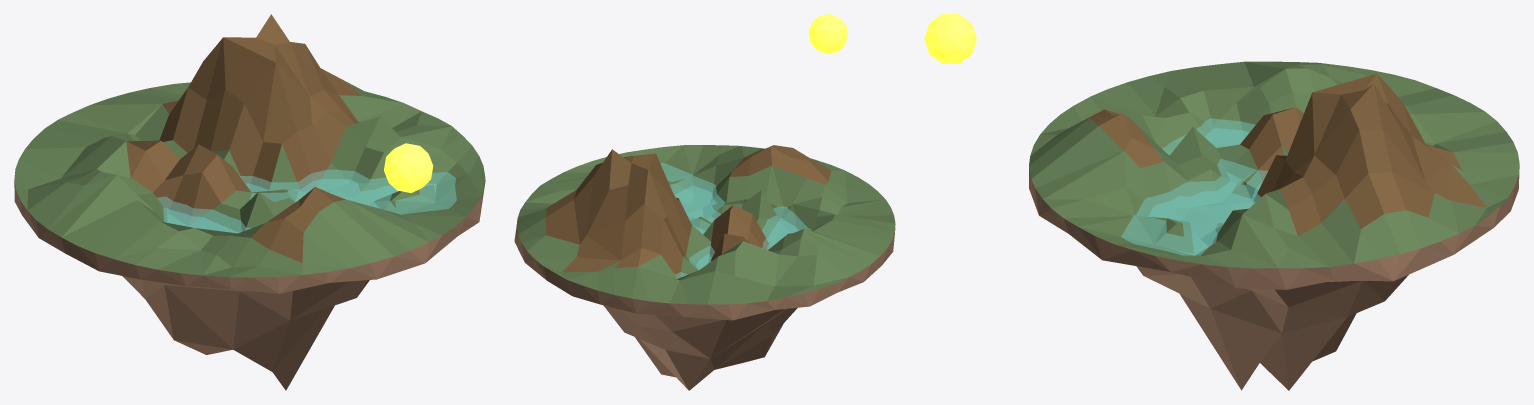
Rendered from island.gltf.
3 renders of one model, left to right at view 1: azimuth 30°, elevation 25°; view 2: azimuth 150°, elevation 25°; view 3: azimuth 270°, elevation 25°, orthographic. The views are drawn at different scales.
Visible parts, largest first — view 1: Island, Water, Sun; view 2: Island, Water, Sun; view 3: Island, Water, Sun.
Part boxes in pixels (<box>): Island: <box>14,14,485,390</box>; Water: <box>157,170,456,233</box>; Sun: <box>384,143,433,192</box>; Island: <box>514,145,895,390</box>; Water: <box>660,163,811,278</box>; Sun: <box>808,14,848,53</box>; Island: <box>1029,61,1519,390</box>; Water: <box>1121,118,1267,255</box>; Sun: <box>924,14,976,63</box>.
Size of the model in its own units: 10.27 by 8.45 by 12.44.
